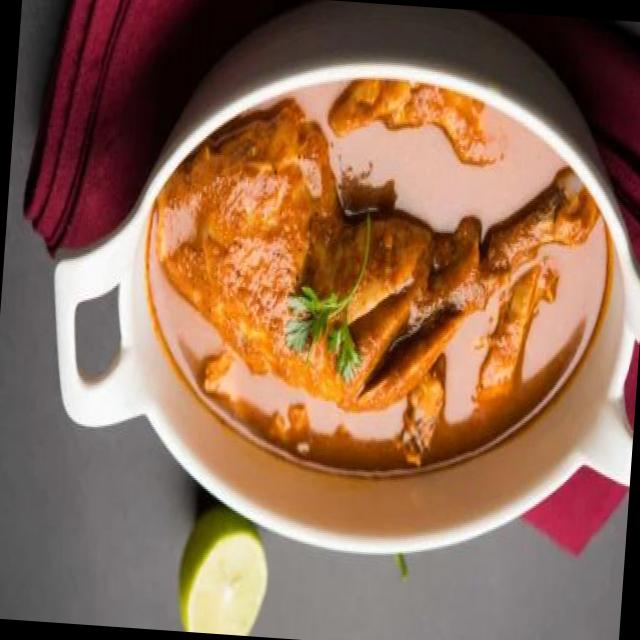chicken: (162, 72, 608, 445)
